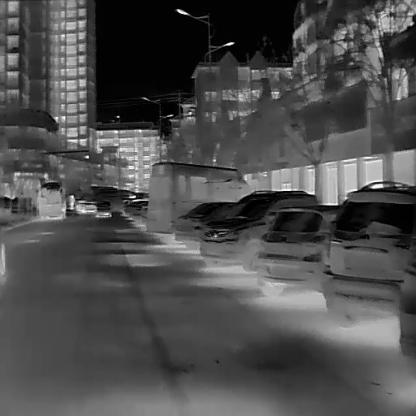bus: (35, 182, 66, 219)
car: (322, 180, 412, 329), (200, 189, 317, 273), (146, 162, 252, 243), (254, 202, 342, 296), (172, 198, 243, 250)
